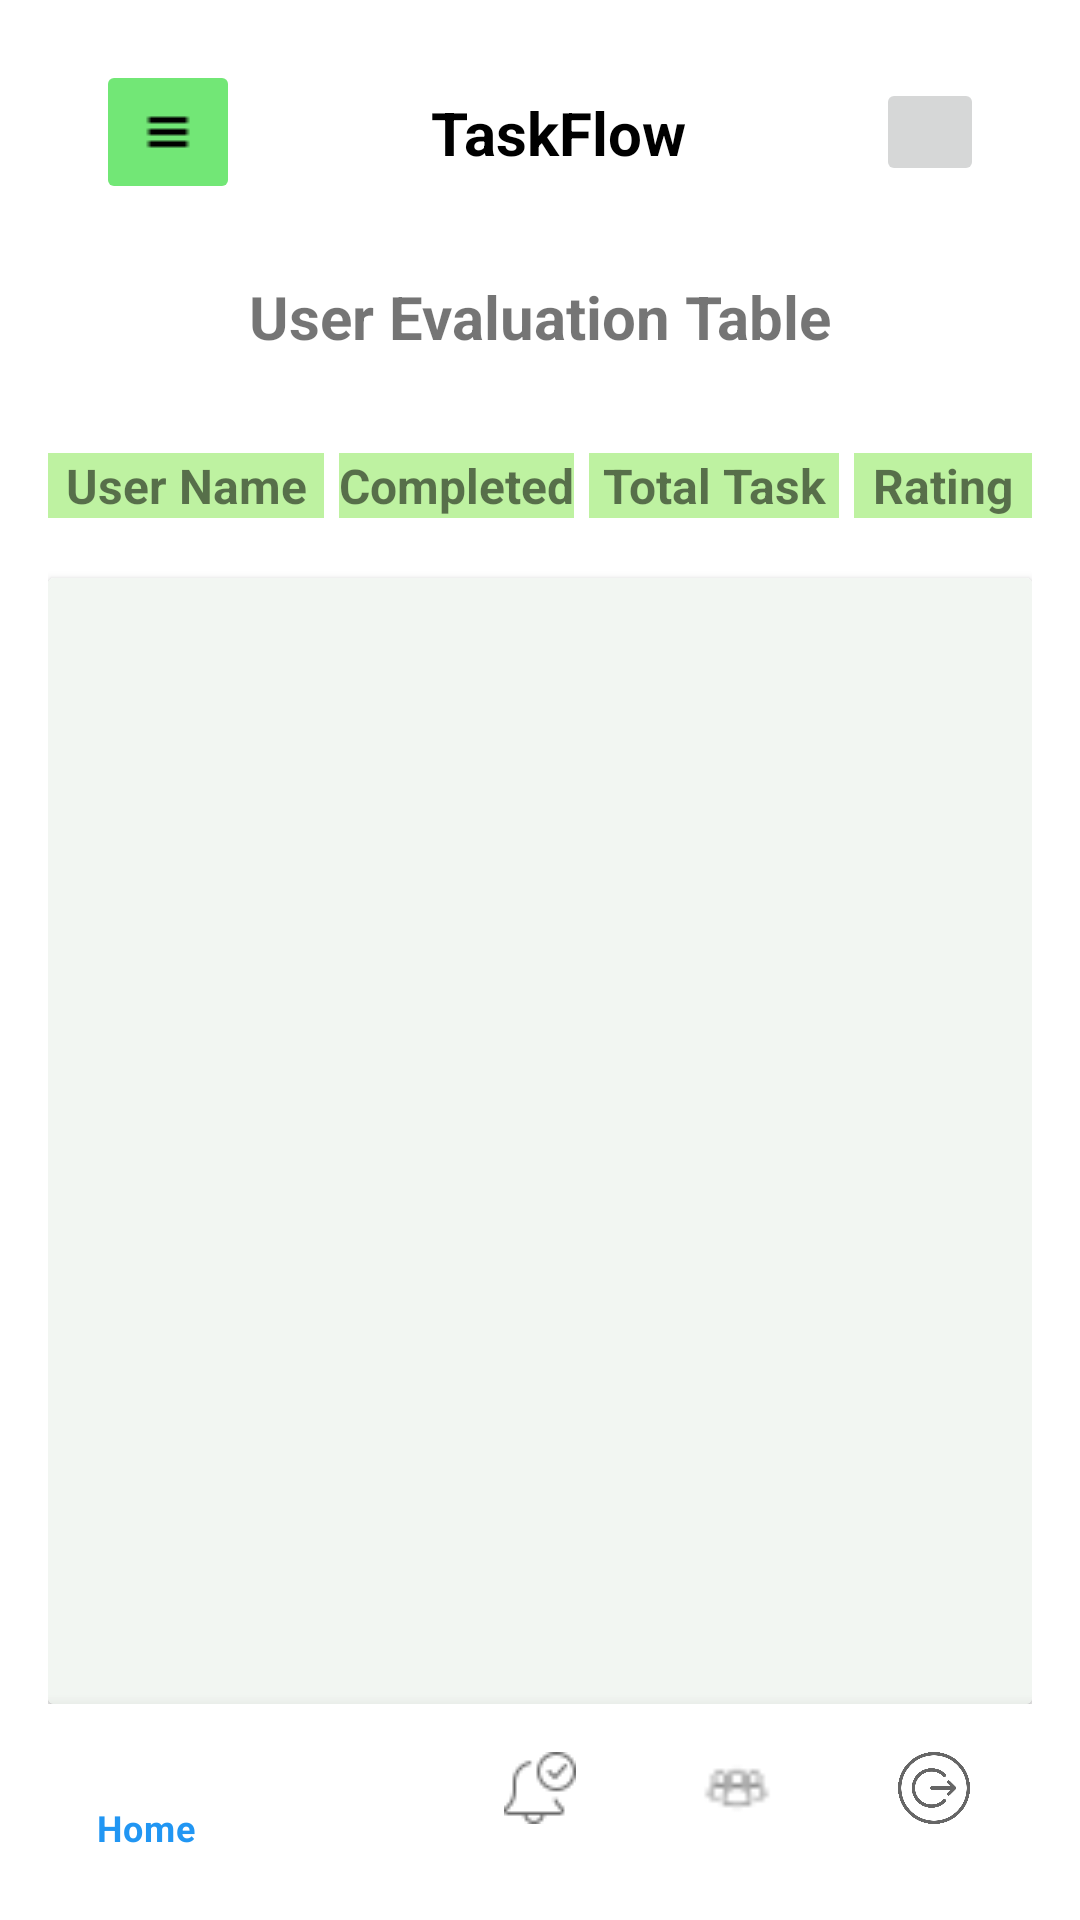

Icons on this 1080*1920 Android screen, each with its box as region(x1, y1, x2, y2):
Menu: region(108, 78, 228, 186)
